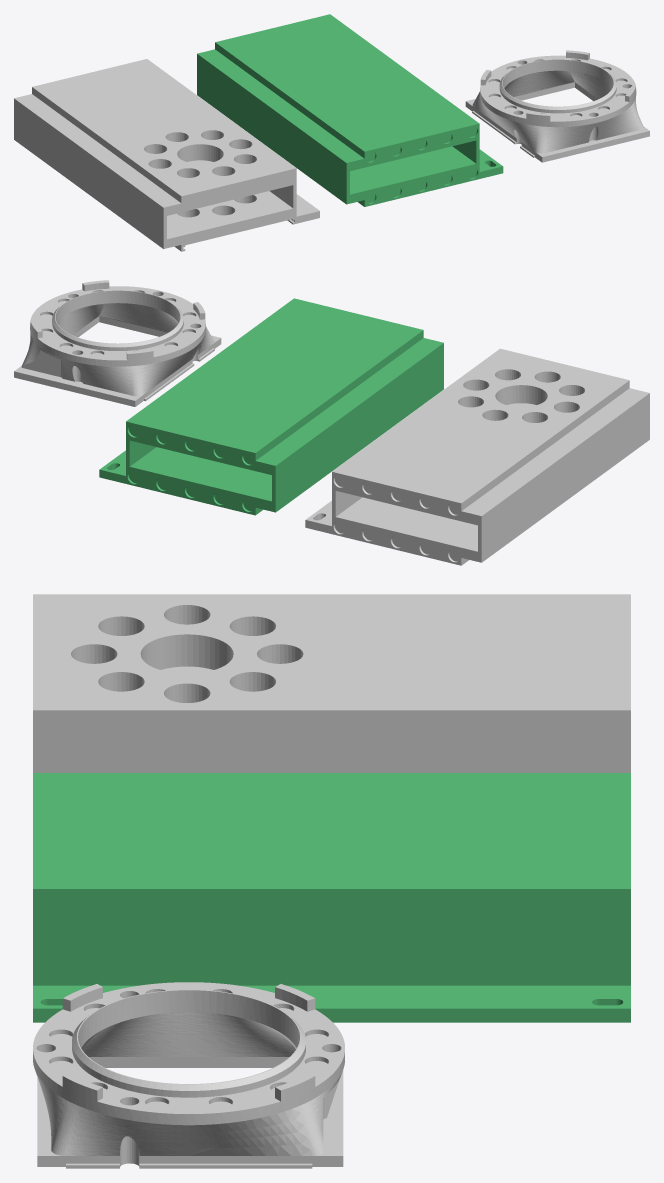
File: window-vent-port.glb
3 renders of one model, top to bottom at view 1: azimuth 30°, elevation 25°; view 2: azimuth 150°, elevation 25°; view 3: azimuth 270°, elevation 25°, orthographic. The views are drawn at different scales.
Parts seen in each view (by area): view 1: window-vent-port; view 2: window-vent-port; view 3: window-vent-port.
Part boxes in pixels (bbox=[...]): window-vent-port: bbox=[14, 14, 649, 251]; window-vent-port: bbox=[14, 280, 649, 565]; window-vent-port: bbox=[33, 594, 630, 1168].
Bounding box in the file's own units: 0.4745 × 0.0502 × 0.2451.
